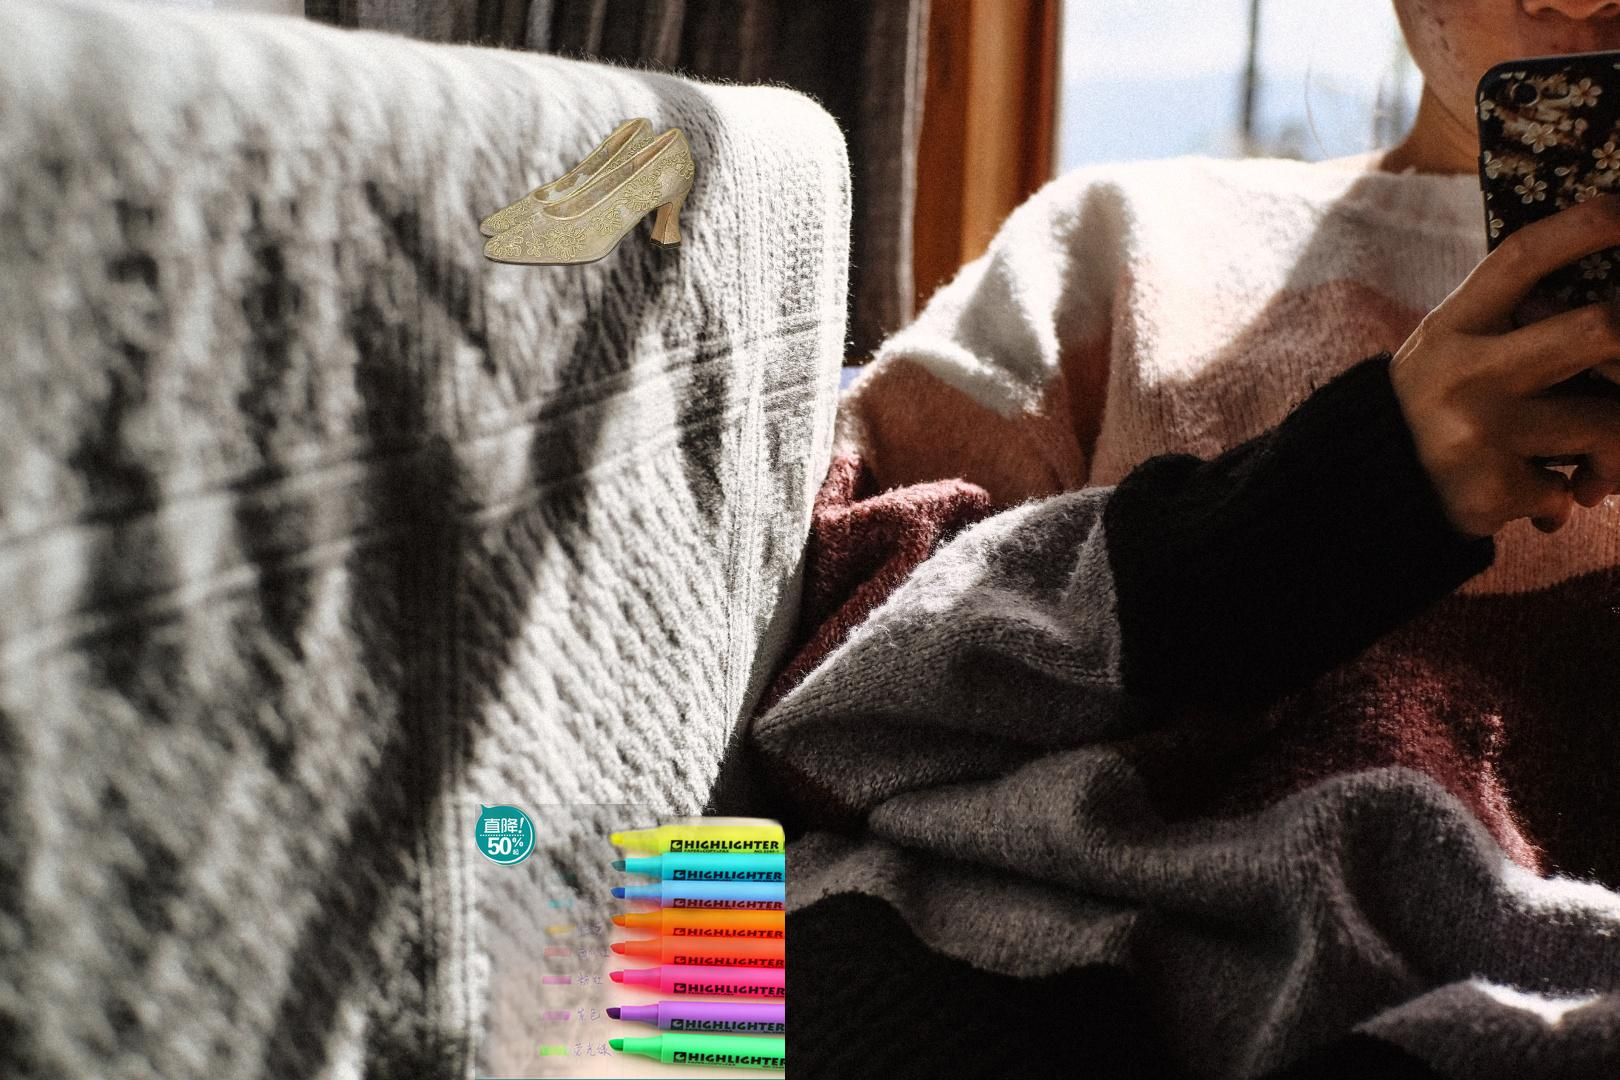penholder: (475, 804, 785, 1080)
shoes: (475, 115, 703, 269)
